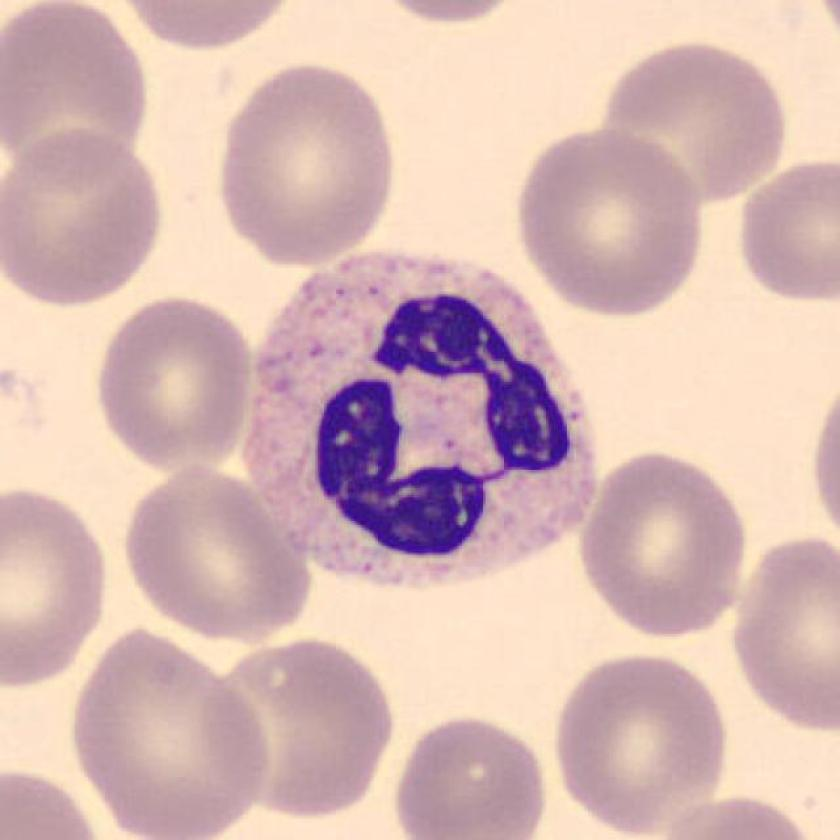neutrophil: (236, 250, 598, 584)
